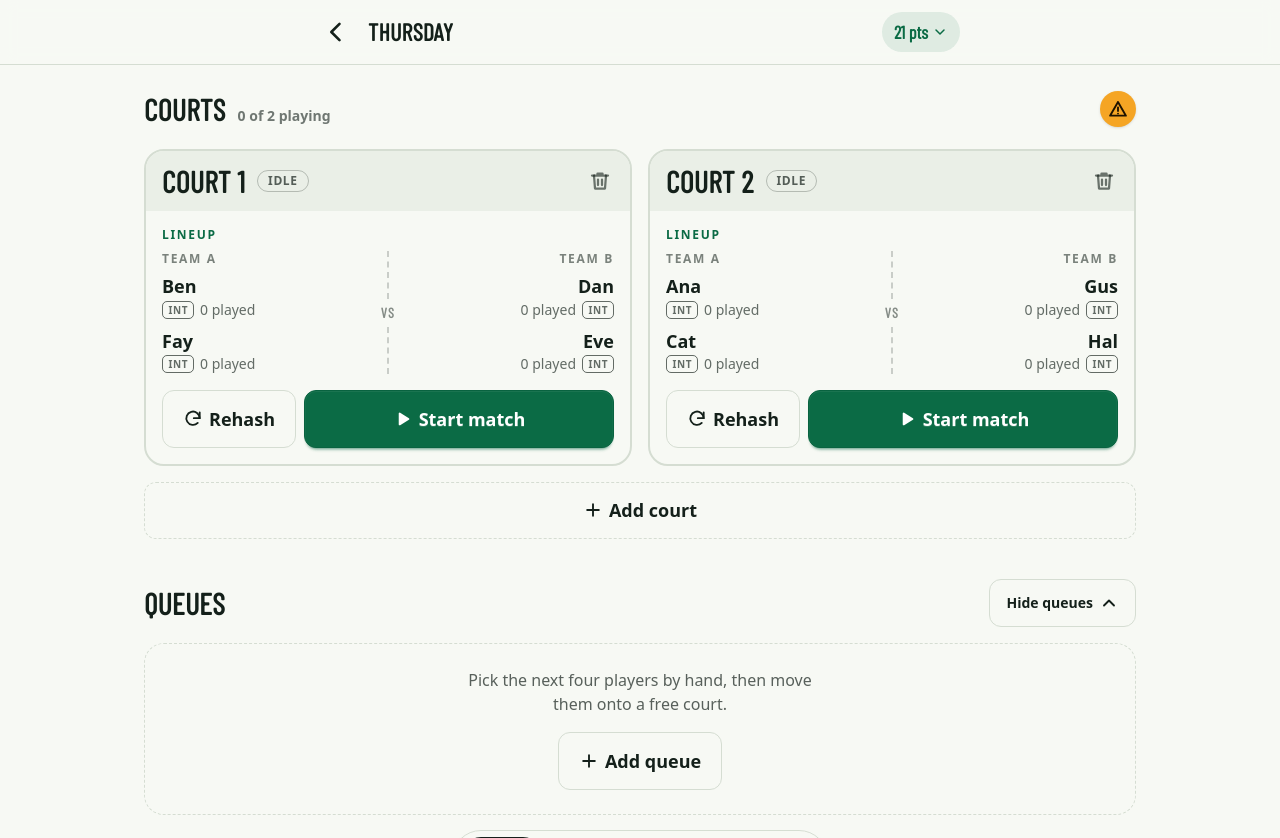
Test: Point system during a Session › shows the suggestion for the time left
What coordinates should you click on to do the following:
click the button with aria-label "change point system"
I would click on:
 (921, 32)
Its box is x1=882 y1=12 x2=960 y2=52.
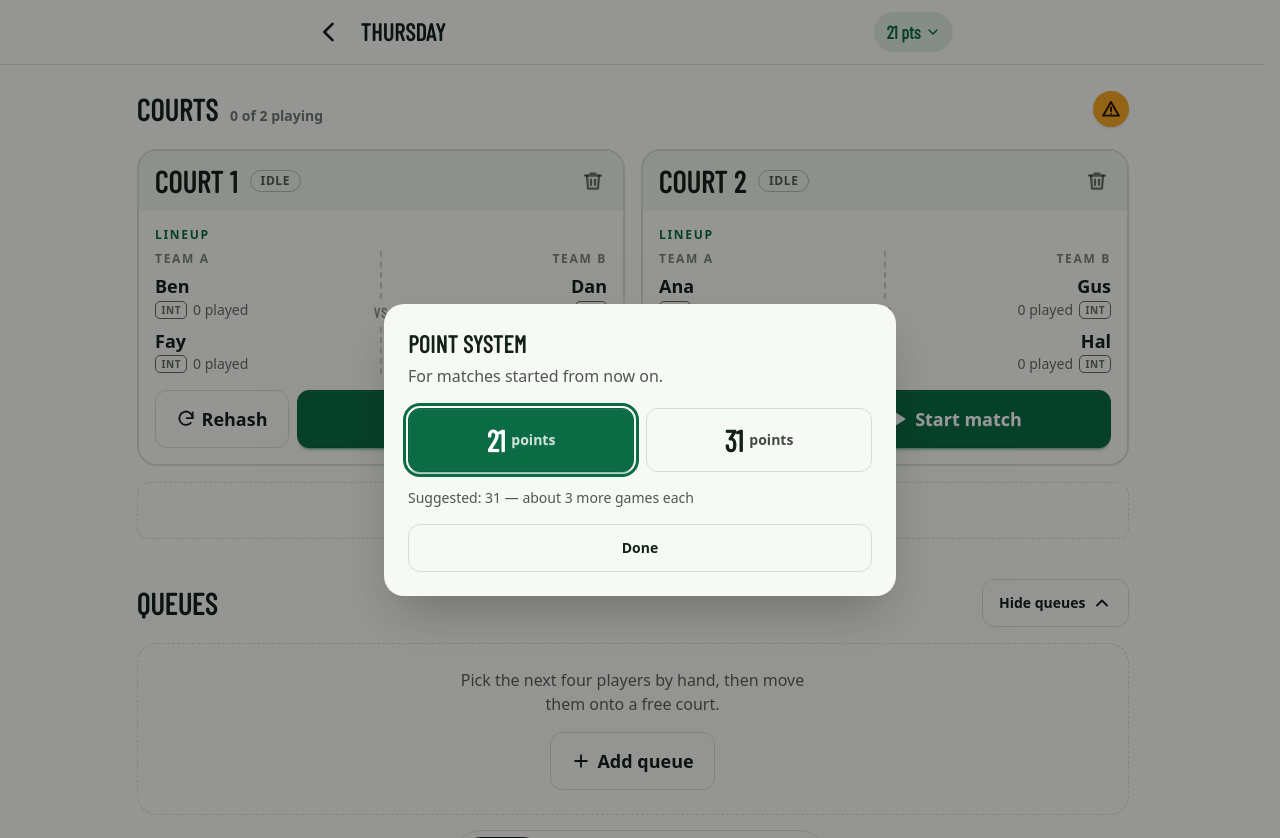
Expected: the list item "Suggested: 31 — about 3 more games each" is shown, x1=408 y1=488 x2=694 y2=507
